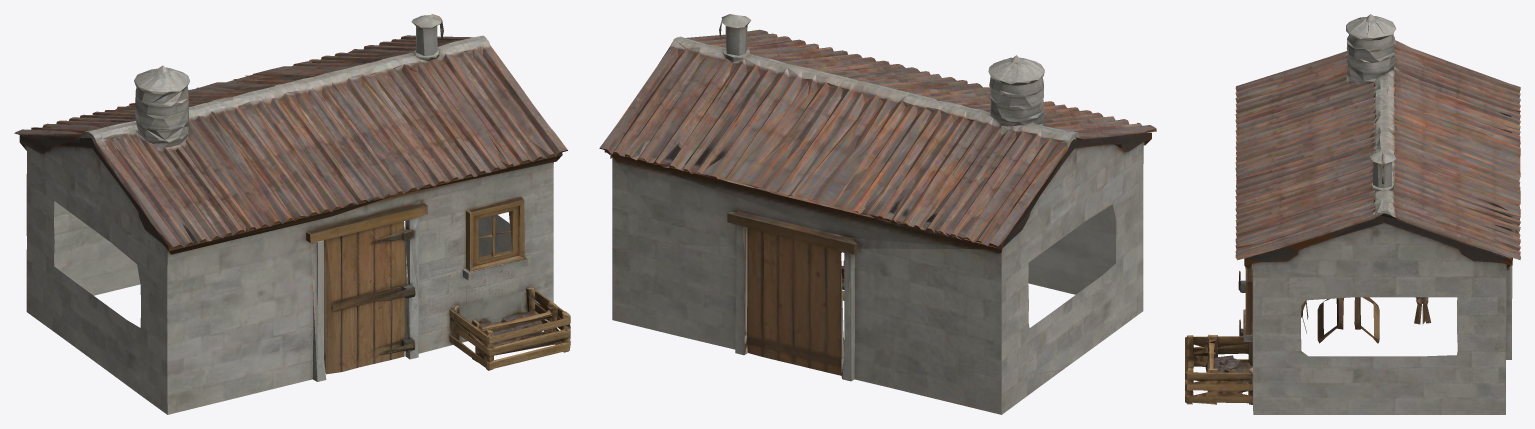
File: shanty.glb
3 renders of one model, left to right at view 1: azimuth 30°, elevation 25°; view 2: azimuth 150°, elevation 25°; view 3: azimuth 270°, elevation 25°, orthographic. The views are drawn at different scales.
Parts seen in each view (by area): view 1: wall, roof; view 2: wall, roof; view 3: wall, roof, glass.
Boxes of the visible parts, x1,y1,x2,y2 form: wall: (17,14,570,414); roof: (14,14,566,246); wall: (600,14,1156,414); roof: (599,15,1155,246); wall: (1185,14,1520,414); roof: (1235,16,1520,259); glass: (1214,217,1405,351).
Size of the model in its own units: 5.8 by 4 by 4.71.
Materials: 1 (1 with a texture image).
